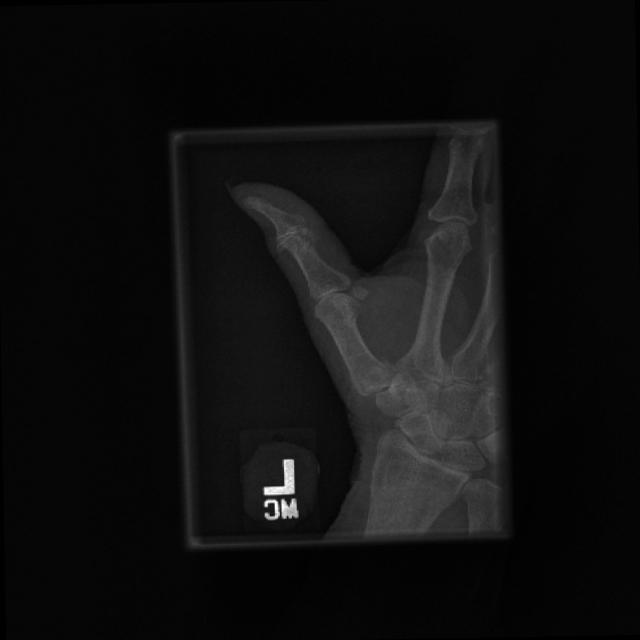fingers positive: (251, 198, 341, 288)
